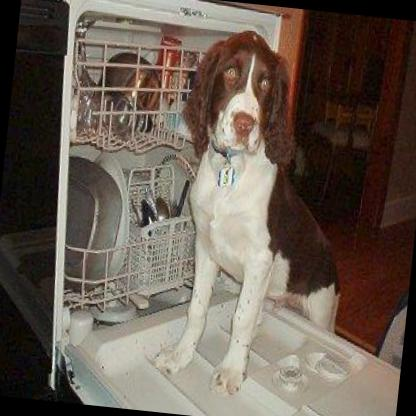English_springer: (148, 20, 362, 406)
